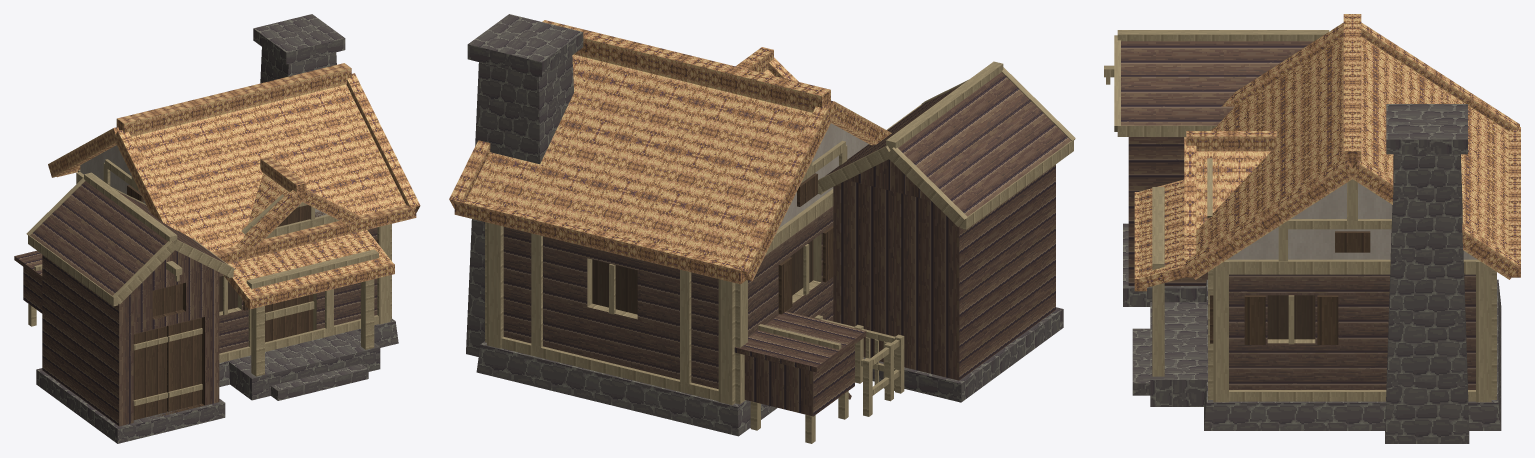
Rendered from farmhouse_stage3.glb.
3 views of the same model, side by side, from view 1: azimuth 30°, elevation 25°; view 2: azimuth 150°, elevation 25°; view 3: azimuth 270°, elevation 25° (orthographic). The views are drawn at different scales.
Parts seen in each view (by area): view 1: farmhouse_stage3; view 2: farmhouse_stage3; view 3: farmhouse_stage3.
Boxes of the visible parts, x1,y1,x2,y2 form: farmhouse_stage3: (14, 14, 420, 443); farmhouse_stage3: (449, 14, 1075, 443); farmhouse_stage3: (1104, 14, 1520, 443).
Size of the model in its own units: 7.17 by 4.94 by 6.14.
8 materials, 8 textured.
